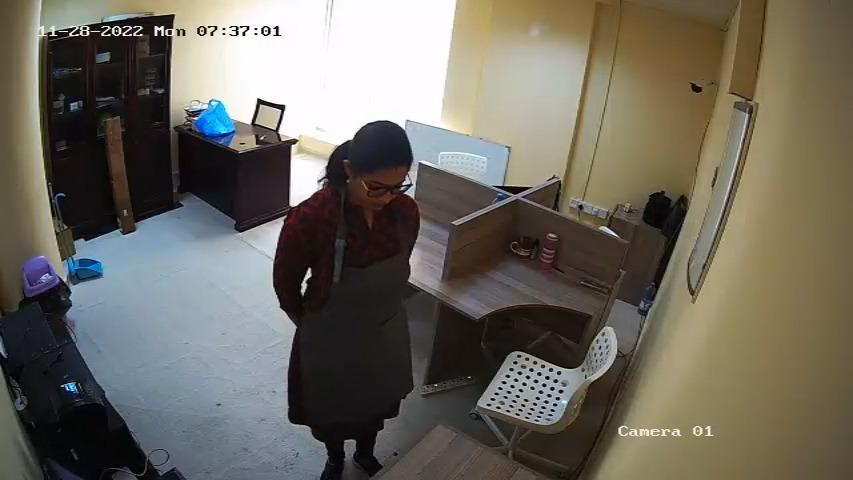apron: (300, 211, 411, 403)
